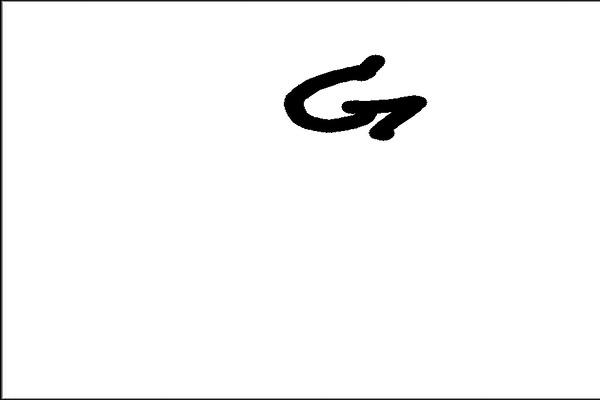G: (276, 51, 431, 142)
